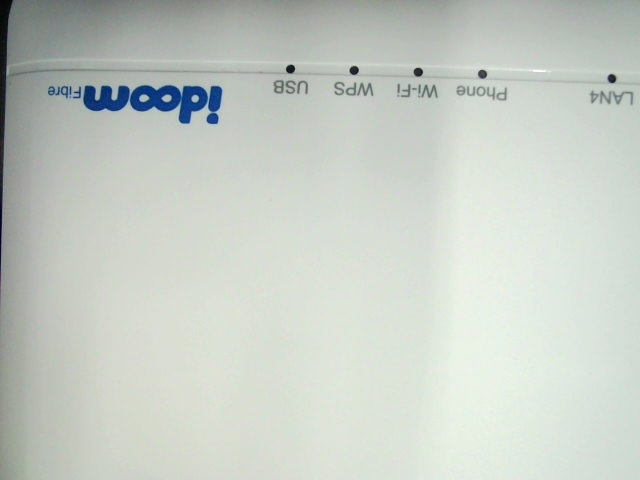BB_idoom: (45, 72, 226, 127)
